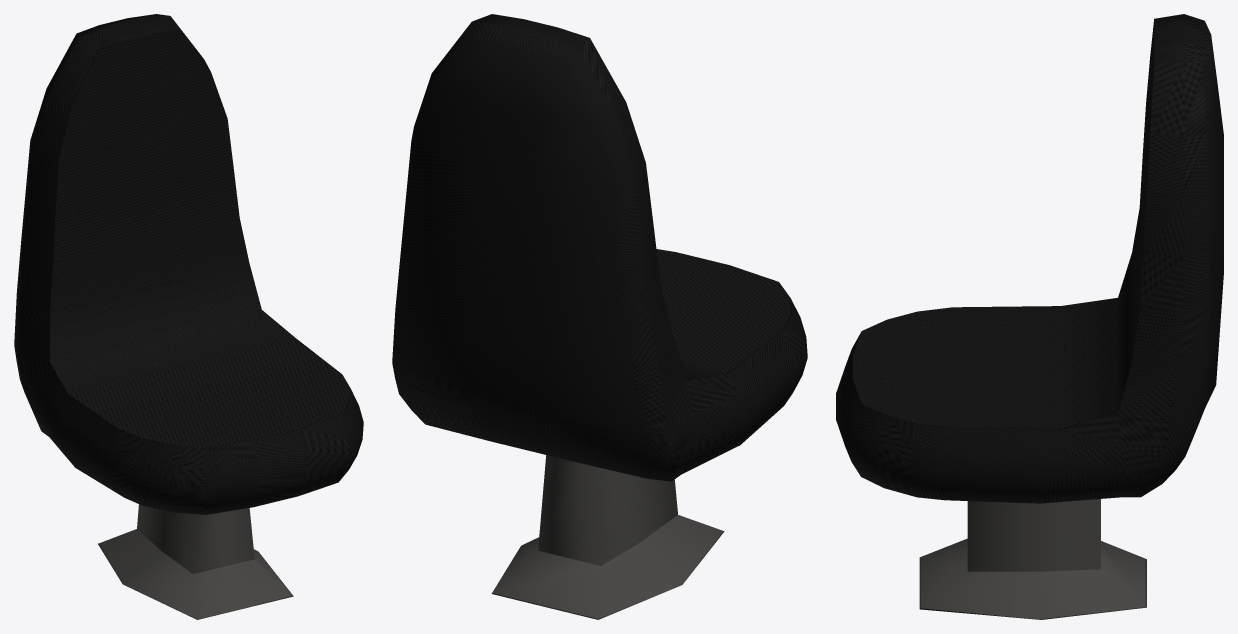
The model's file is chair1.fbx.
3 views of the same model, side by side, from view 1: azimuth 30°, elevation 25°; view 2: azimuth 150°, elevation 25°; view 3: azimuth 270°, elevation 25° (orthographic). The views are drawn at different scales.
Parts seen in each view (by area): view 1: chair; view 2: chair; view 3: chair.
Part boxes in pixels (x1=…): chair: x1=14, y1=14, x2=363, y2=619; chair: x1=392, y1=14, x2=807, y2=619; chair: x1=836, y1=14, x2=1223, y2=619.
Bounding box in the file's own units: 171 × 319 × 204.
1 material, 1 textured.
